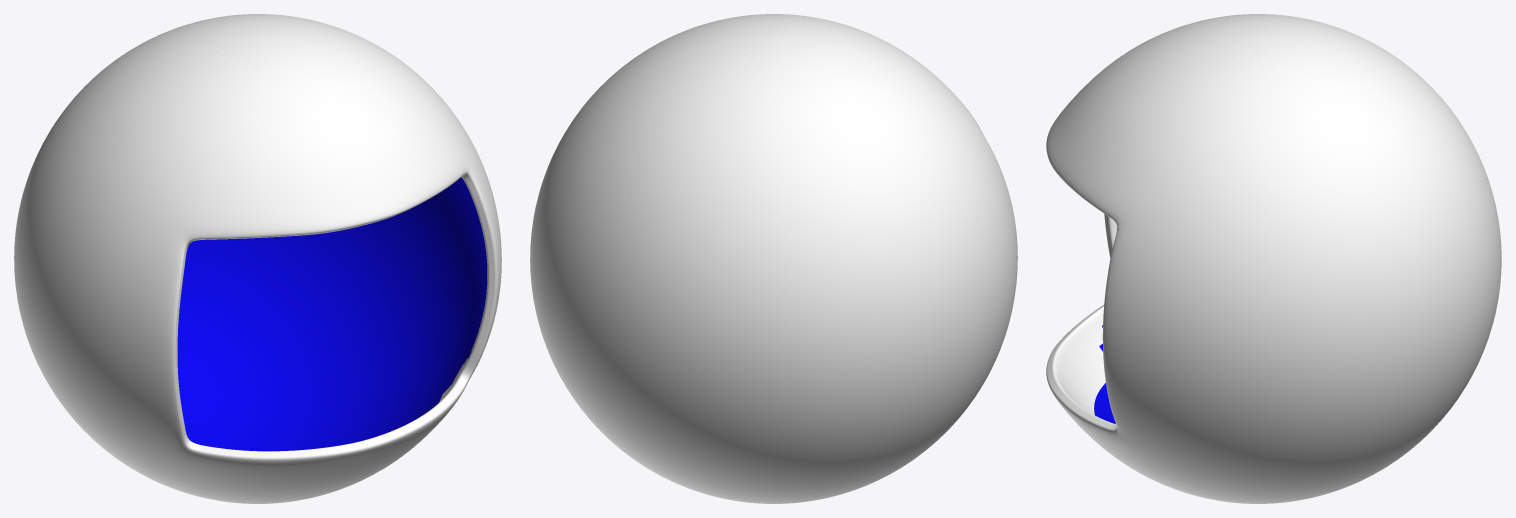
File: globo.fbx
3 renders of one model, left to right at view 1: azimuth 30°, elevation 25°; view 2: azimuth 150°, elevation 25°; view 3: azimuth 270°, elevation 25°, orthographic.
Visible parts, largest first — view 1: Rede Globo; view 2: Rede Globo; view 3: Rede Globo.
Boxes of the visible parts, x1,y1,x2,y2 form: Rede Globo: (14,14,501,503); Rede Globo: (530,14,1017,503); Rede Globo: (1046,14,1501,503).
Size of the model in its own units: 790 by 799 by 738.
